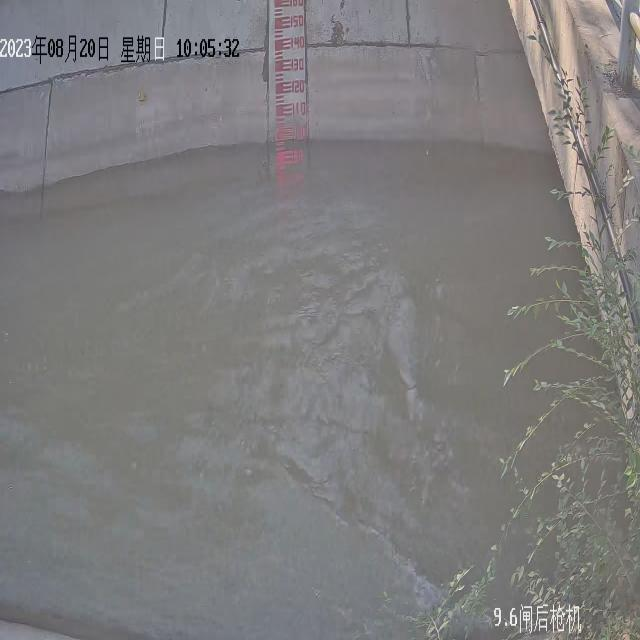ruler: (269, 0, 312, 171)
value: (290, 100, 308, 118), (290, 124, 308, 142), (289, 35, 306, 51), (287, 13, 305, 28), (290, 58, 306, 74), (290, 78, 306, 94), (292, 146, 304, 165), (286, 0, 305, 10)
